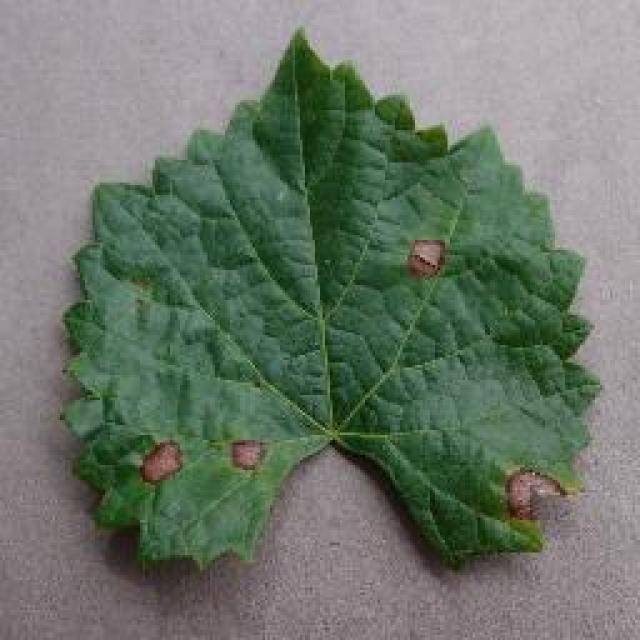Grape___Black_rot: (50, 26, 608, 579)
